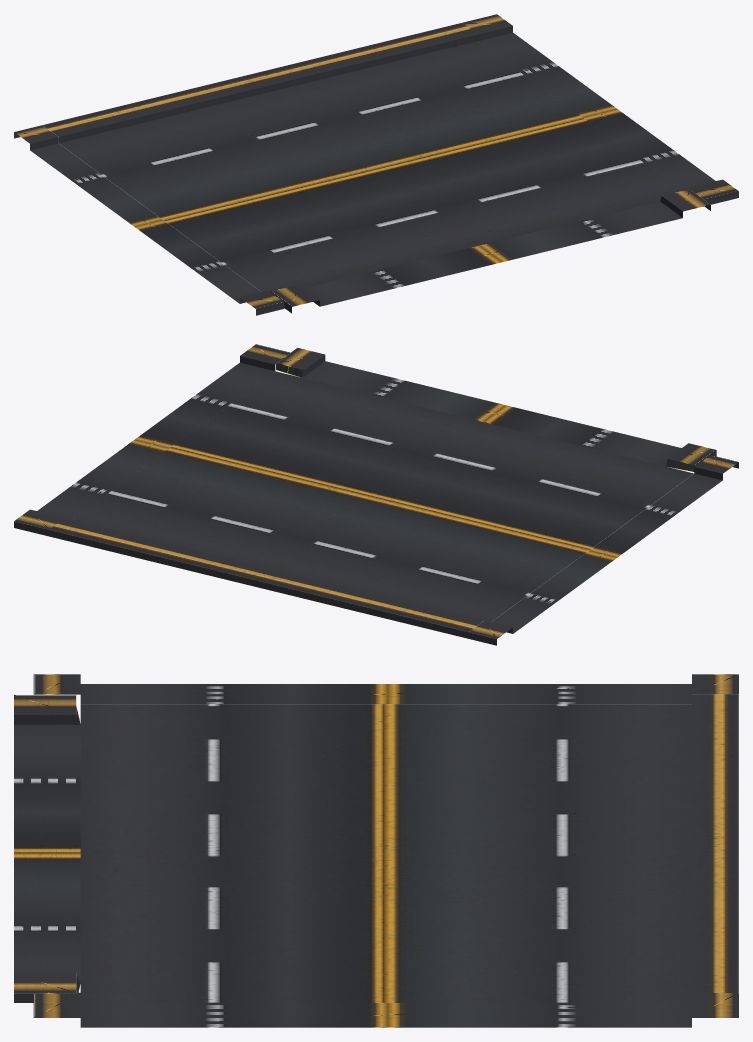
File: Road_T-Shape.fbx
3 renders of one model, top to bottom at view 1: azimuth 30°, elevation 25°; view 2: azimuth 150°, elevation 25°; view 3: azimuth 270°, elevation 25°, orthographic. The views are drawn at different scales.
Parts seen in each view (by area): view 1: Plane.006; view 2: Plane.006; view 3: Plane.006.
Part boxes in pixels (x1,y1,x2,y2): Plane.006: [14, 14, 738, 315]; Plane.006: [14, 344, 738, 645]; Plane.006: [14, 674, 738, 1027].
Bounding box in the file's own units: 1613 × 21.19 × 1439.
